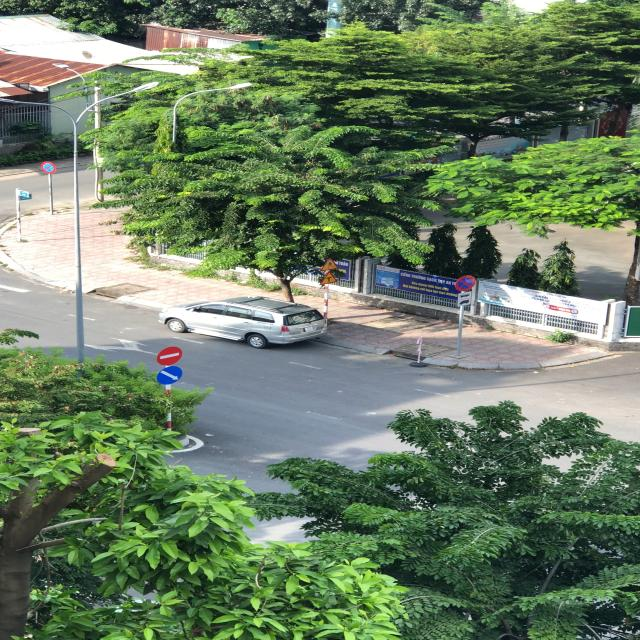Bien bao cam di nguoc chieu: (153, 346, 185, 367)
Bien bao cam dung xe va do xe: (453, 272, 480, 292)
Bien bao duong giao nhau: (320, 272, 341, 286)
Bien bao duong nguoi di bo cat ngang: (317, 256, 340, 272)
Bien bao huong phai di vong chuong ngai vat: (154, 366, 184, 384)
